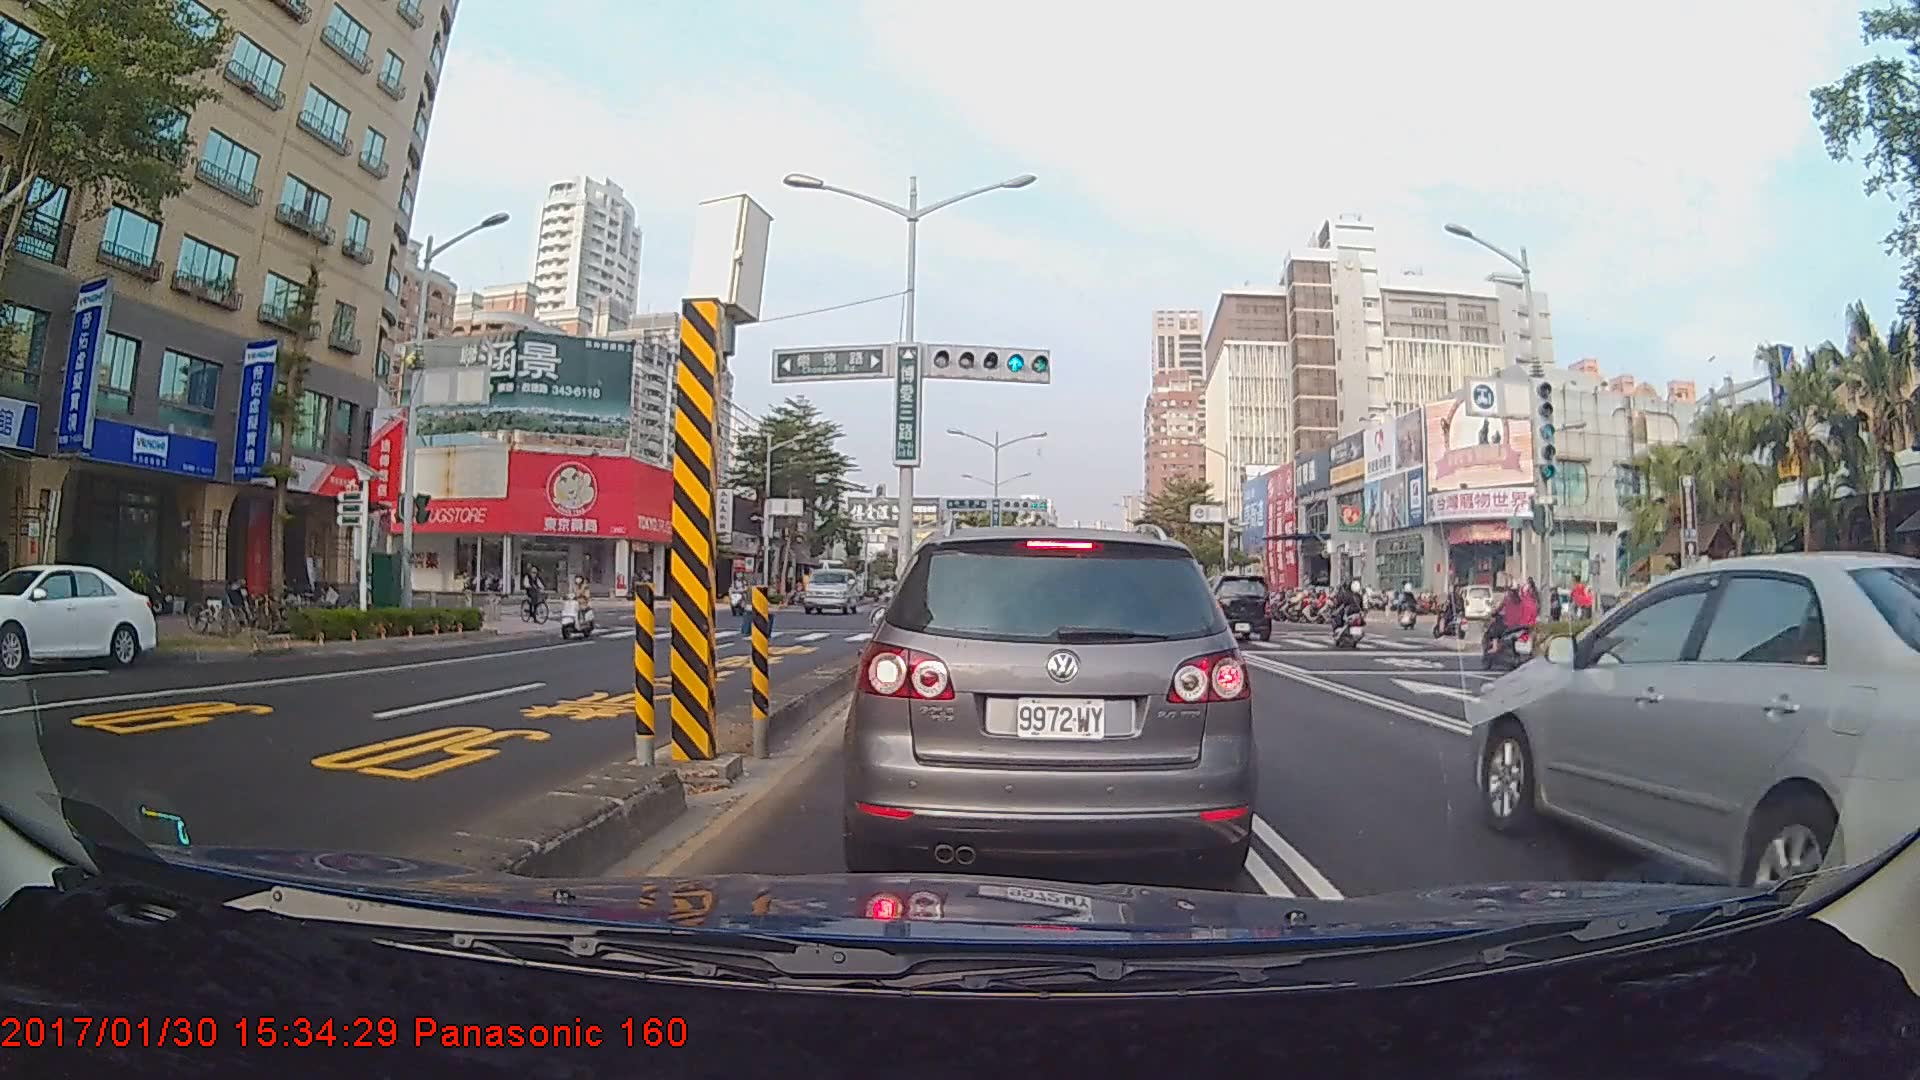rider: (1480, 576, 1548, 675), (558, 571, 607, 643), (1325, 582, 1378, 646), (518, 559, 561, 629), (1436, 582, 1473, 646)
vehicle: (1469, 548, 1920, 880), (852, 521, 1251, 876), (0, 561, 157, 671), (1191, 572, 1272, 641), (802, 568, 860, 615)
